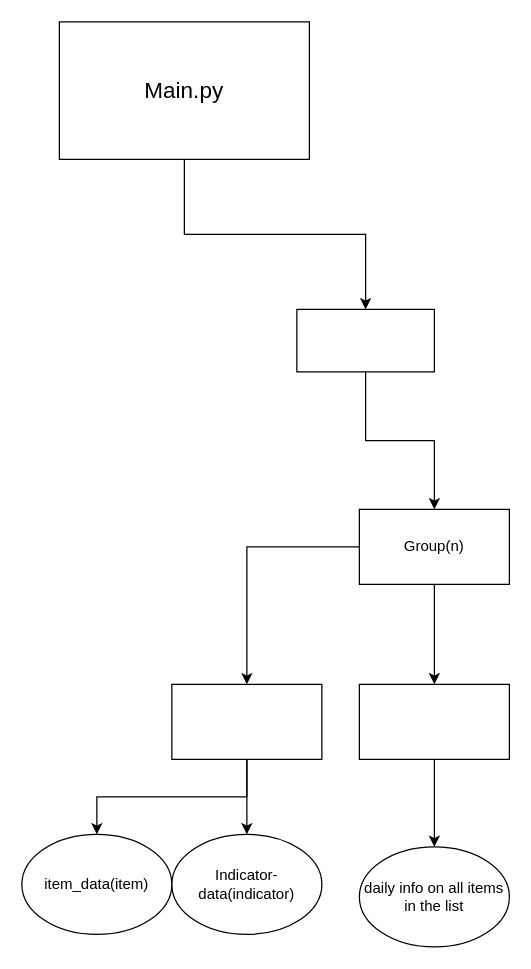
Some shapes in this 531 by 969 pixel diagram are drawn without their labels. The box of each missing label's shape, as (x1, y1, x2, y2) in pixels:
all-time data: (171, 683, 322, 759)
daily(date): (358, 683, 509, 759)
Data: (296, 308, 434, 372)
